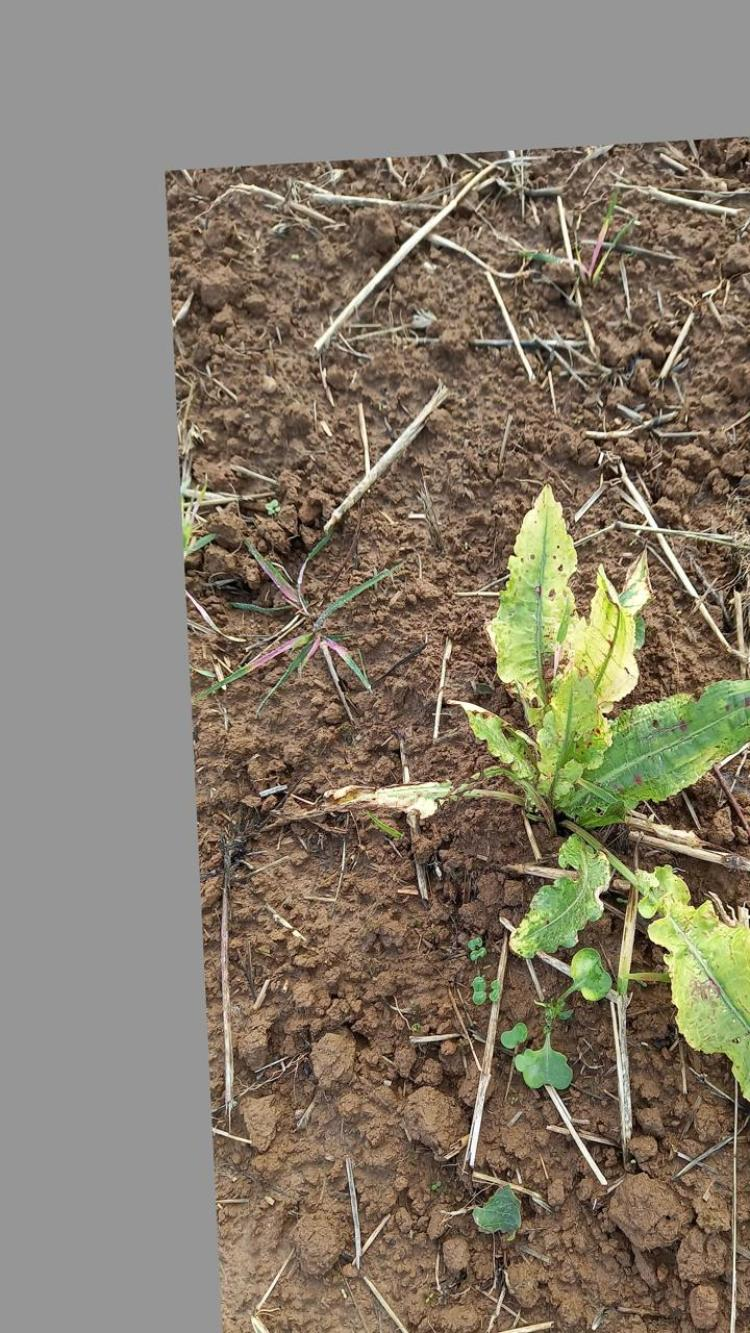zhavel: (469, 494, 750, 1108)
